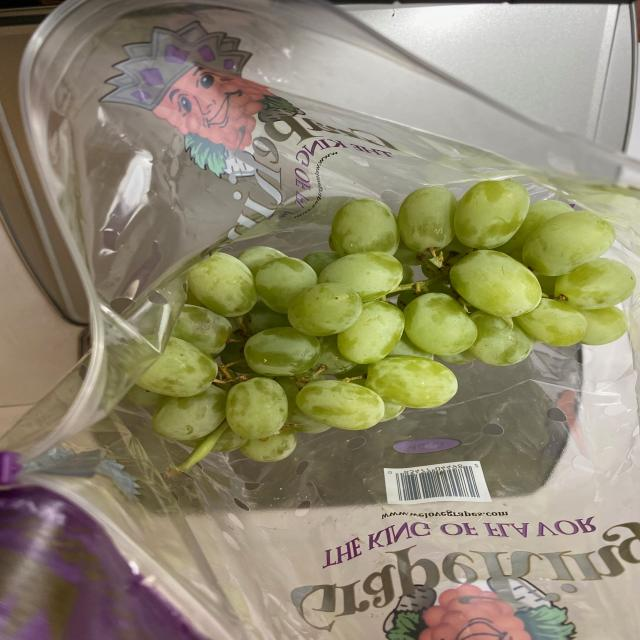grapes: (120, 187, 628, 475)
